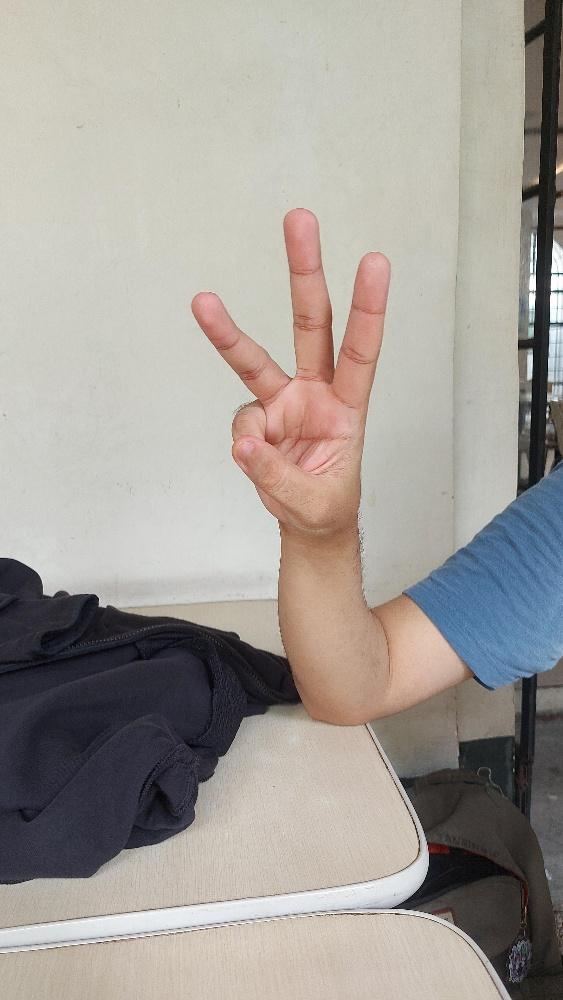w: (189, 207, 390, 535)
